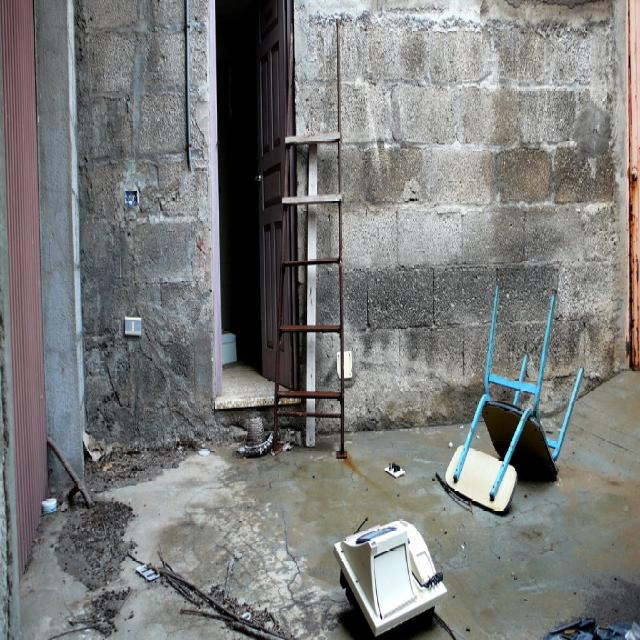Chair: (445, 285, 575, 514)
